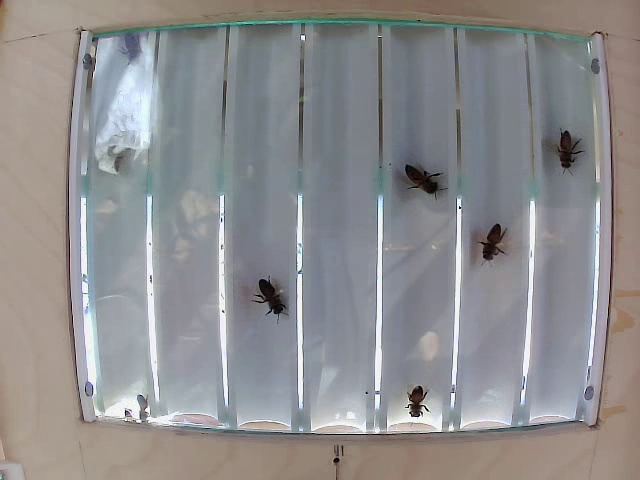bee: (251, 273, 289, 324), (402, 162, 448, 201), (554, 128, 589, 177), (477, 223, 508, 268), (406, 380, 431, 417)
